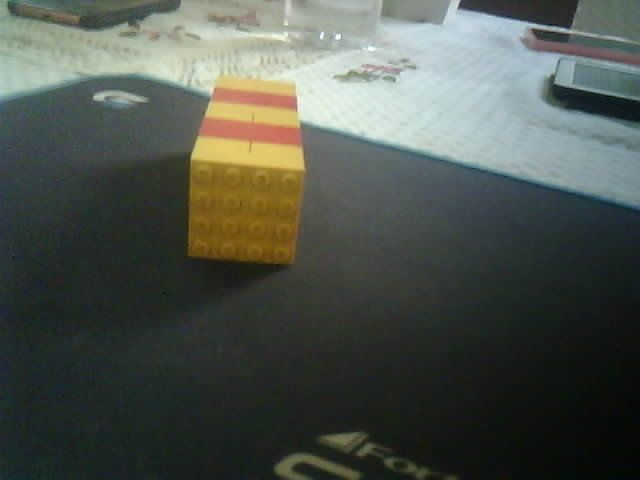lego: (187, 74, 306, 268)
